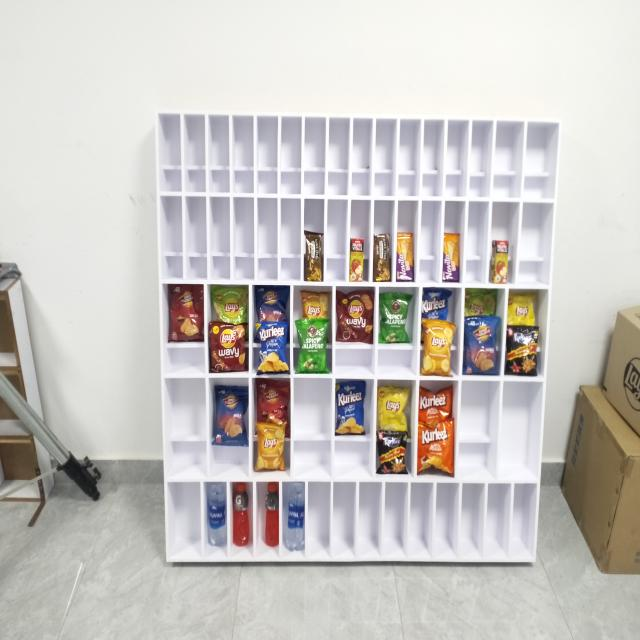Plastic: (212, 383, 248, 447), (166, 283, 204, 343), (463, 316, 500, 376), (336, 289, 374, 343), (416, 422, 454, 474), (208, 321, 246, 372), (296, 318, 330, 374), (422, 320, 454, 378), (334, 379, 366, 436), (379, 291, 412, 345), (256, 322, 289, 374), (506, 326, 538, 376), (378, 384, 412, 430), (255, 378, 290, 422), (256, 423, 286, 472), (210, 284, 248, 321), (253, 284, 290, 322), (377, 432, 408, 476), (418, 384, 452, 422), (287, 481, 305, 551), (208, 481, 226, 546), (232, 481, 250, 546), (303, 228, 324, 282), (508, 291, 539, 325), (264, 482, 280, 546), (396, 231, 416, 282), (421, 286, 452, 318), (300, 288, 331, 320), (442, 230, 460, 284), (464, 287, 498, 314), (374, 232, 392, 282), (490, 240, 508, 284), (350, 238, 364, 282)
